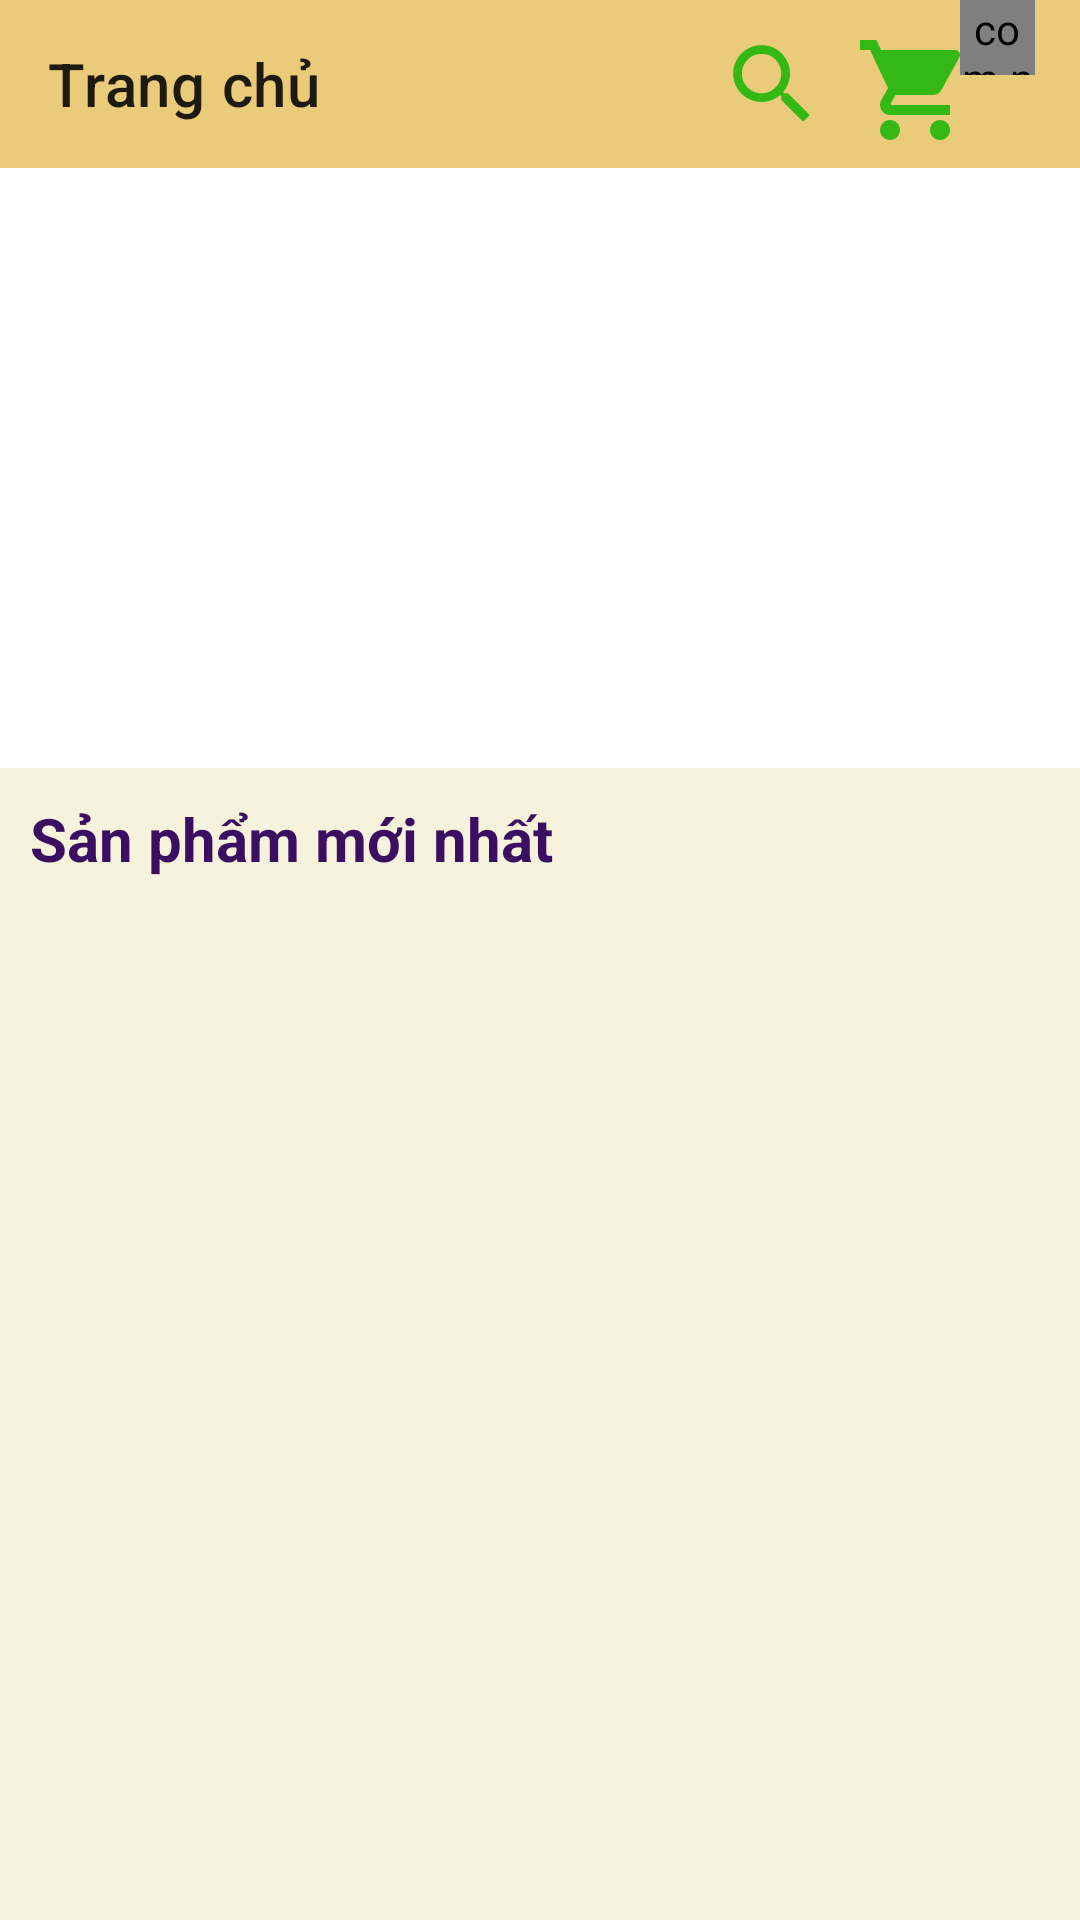

Locate icon controls on the screen. Image size 1080px×1920px, boxes as (x1, y1, x2, y2).
search: (733, 45, 810, 122)
shopping cart: (860, 30, 975, 140)
